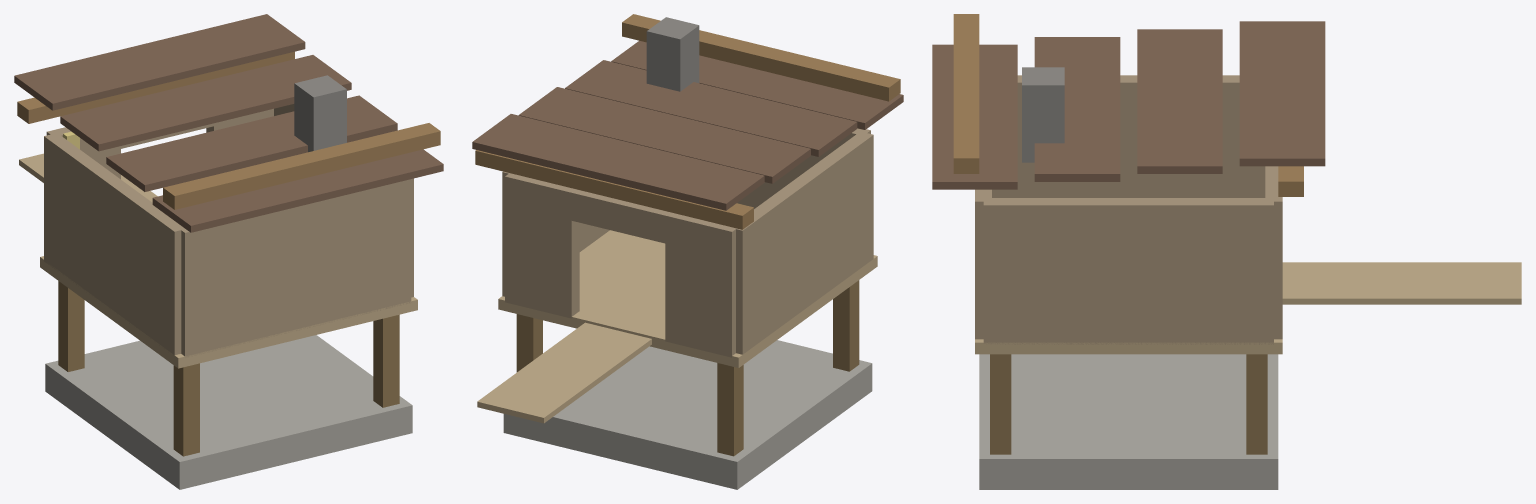
File: prop_fishinghut.glb
3 renders of one model, left to right at view 1: azimuth 30°, elevation 25°; view 2: azimuth 150°, elevation 25°; view 3: azimuth 270°, elevation 25°, orthographic. The views are drawn at different scales.
Parts seen in each view (by area): view 1: Prop_FishingHut; view 2: Prop_FishingHut; view 3: Prop_FishingHut.
Boxes of the visible parts, x1,y1,x2,y2 form: Prop_FishingHut: (14, 14, 443, 489); Prop_FishingHut: (472, 14, 903, 489); Prop_FishingHut: (932, 14, 1521, 489).
Bounding box in the file's own units: 4 × 4.9 × 6.9.
